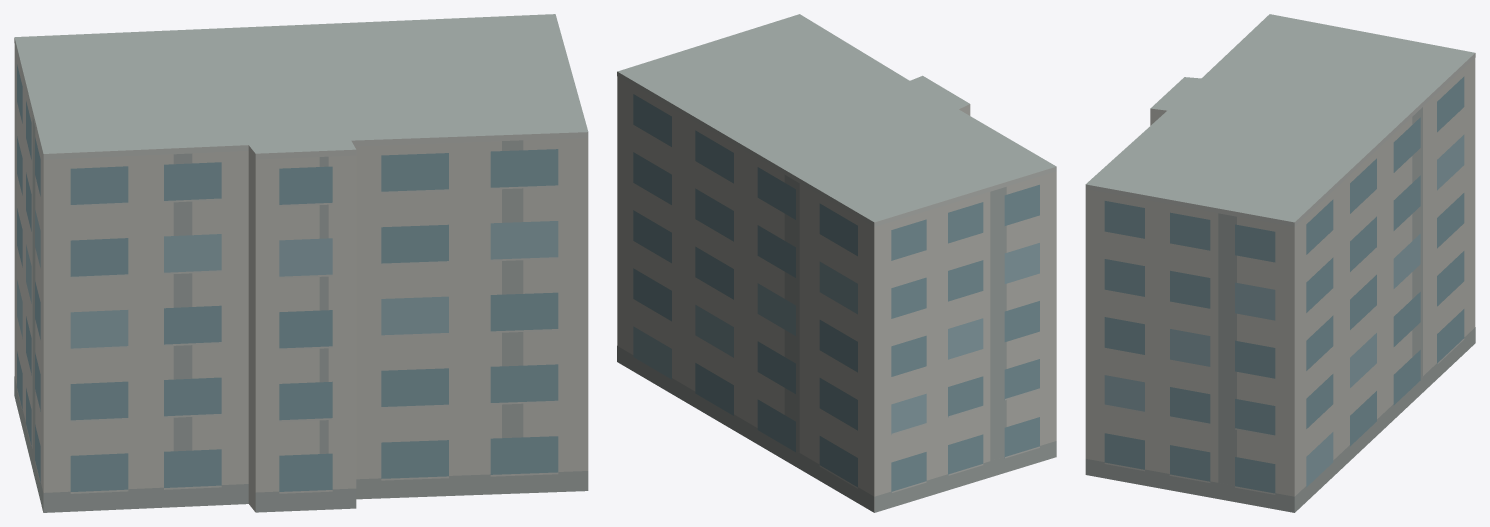
The model's file is survey-upis-32565991.glb.
The picture shows the model from 3 angles, left to right: view 1: azimuth 30°, elevation 25°; view 2: azimuth 150°, elevation 25°; view 3: azimuth 270°, elevation 25°; orthographic projection. The views are drawn at different scales.
Visible parts, largest first — view 1: survey-upis-32565991.tmp; view 2: survey-upis-32565991.tmp; view 3: survey-upis-32565991.tmp.
Part boxes in pixels (x1,y1,x2,y2): survey-upis-32565991.tmp: (14, 14, 588, 512); survey-upis-32565991.tmp: (617, 14, 1056, 512); survey-upis-32565991.tmp: (1085, 14, 1475, 512).
Bounding box in the file's own units: 22.78 × 14.8 × 18.01.
